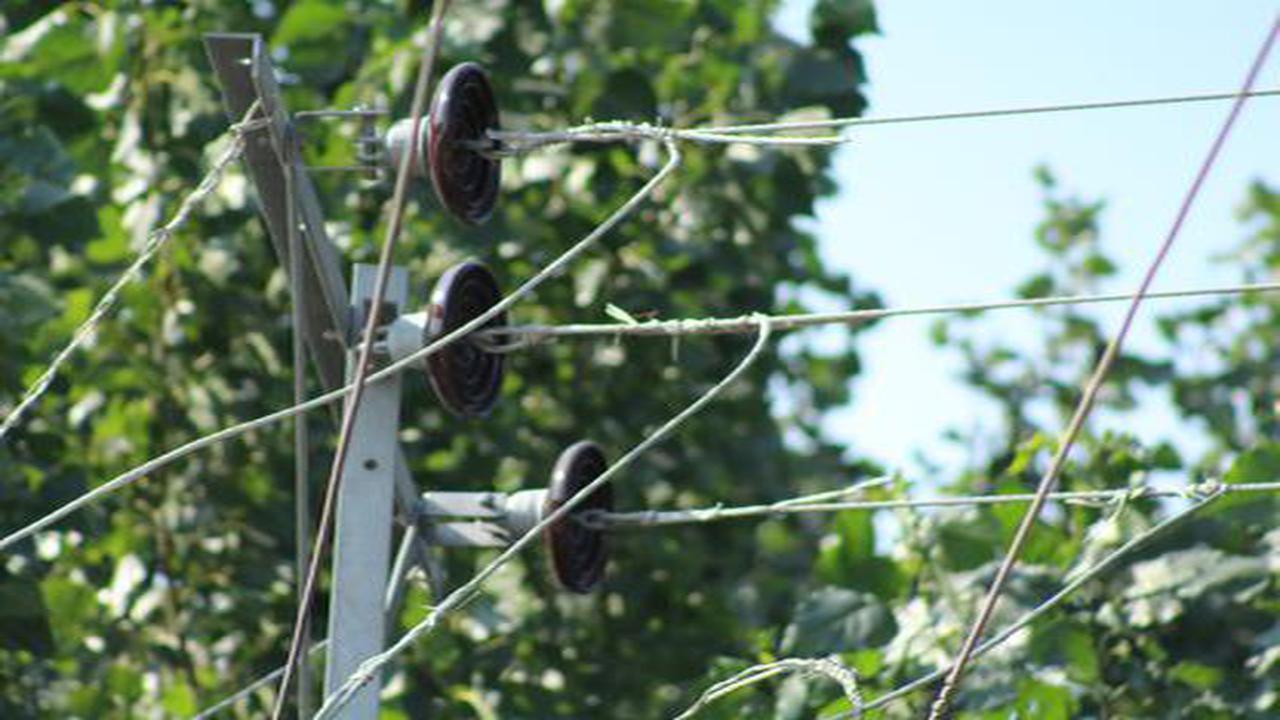insulator_disc: (377, 53, 509, 230), (380, 251, 515, 421), (503, 433, 630, 605)
